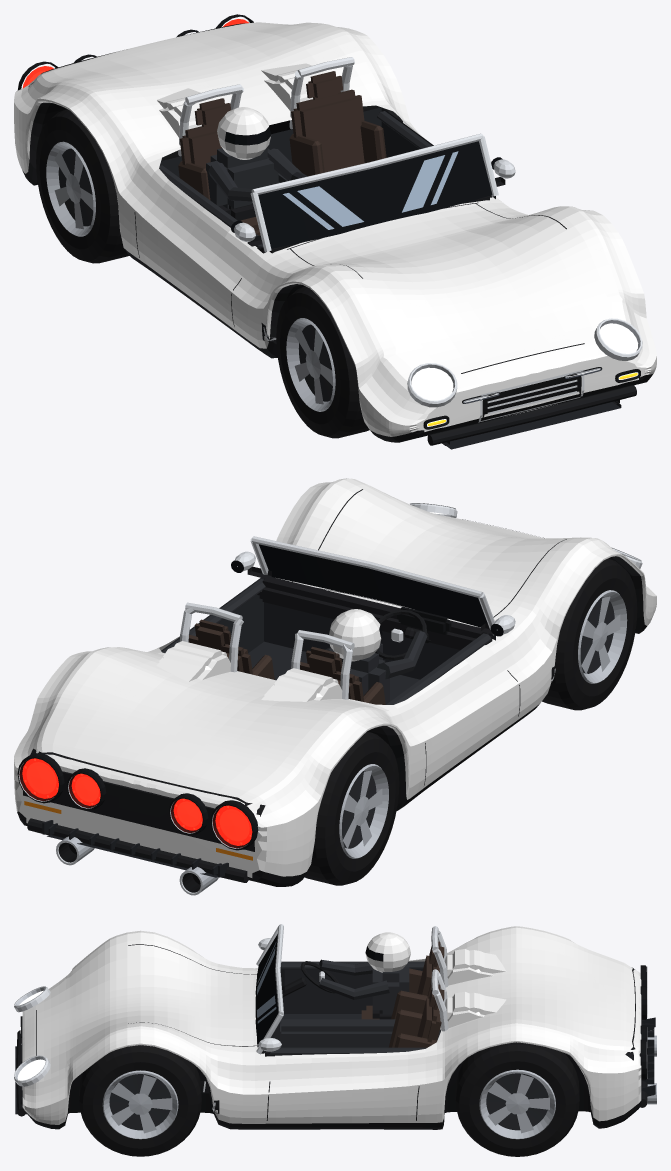
File: roadster.glb
3 views of the same model, one above another, from view 1: azimuth 30°, elevation 25°; view 2: azimuth 150°, elevation 25°; view 3: azimuth 270°, elevation 25° (orthographic). The views are drawn at different scales.
Visible parts, largest first — view 1: body, parabrisa, bancos, wheel_rr, wheel_fr, piloto, divisor, cockpit, entradas_frente, corcovas, santantonio, farol_redondo_r (+3 smaller); view 2: body, cockpit, wheel_rr, wheel_fr, parabrisa, lamp_tail, corcovas, painel_traseiro, piloto, bancos, santantonio, parachoque_tras (+4 smaller); view 3: body, wheel_rl, wheel_fl, cockpit, piloto, bancos, corcovas, parabrisa, santantonio, farol_redondo_l, lamp_tail, difusor (+2 smaller).
Part boxes in pixels (box(x1,y1,x2,y2)): body: box(14, 22, 656, 442); parabrisa: box(250, 133, 498, 251); bancos: box(178, 71, 386, 235); wheel_rr: box(36, 109, 128, 263); wheel_fr: box(276, 286, 369, 438); piloto: box(206, 107, 307, 220); divisor: box(427, 385, 636, 449); cockpit: box(159, 107, 495, 253); entradas_frente: box(478, 370, 584, 422); corcovas: box(157, 63, 328, 137); santantonio: box(178, 57, 354, 156); farol_redondo_r: box(407, 363, 457, 407); body: box(14, 478, 656, 886); cockpit: box(161, 576, 495, 704); wheel_rr: box(304, 731, 399, 885); wheel_fr: box(542, 558, 637, 710); parabrisa: box(250, 536, 494, 635); lamp_tail: box(17, 753, 258, 850); corcovas: box(156, 641, 342, 701); painel_traseiro: box(23, 748, 265, 851); piloto: box(325, 609, 427, 704); bancos: box(188, 619, 385, 704); santantonio: box(179, 602, 354, 699); parachoque_tras: box(27, 818, 248, 882); body: box(22, 926, 641, 1129); wheel_rl: box(455, 1042, 579, 1156); wheel_fl: box(79, 1045, 201, 1156); cockpit: box(261, 961, 440, 1056); piloto: box(319, 932, 410, 1019); bancos: box(361, 941, 444, 1047); corcovas: box(440, 949, 506, 1029); parabrisa: box(255, 924, 283, 1054); santantonio: box(431, 926, 448, 1031); farol_redondo_l: box(14, 1055, 50, 1086); lamp_tail: box(640, 965, 647, 1080); difusor: box(641, 1017, 655, 1096).
Size of the model in its own units: 1.93 by 1.17 by 4.57.
